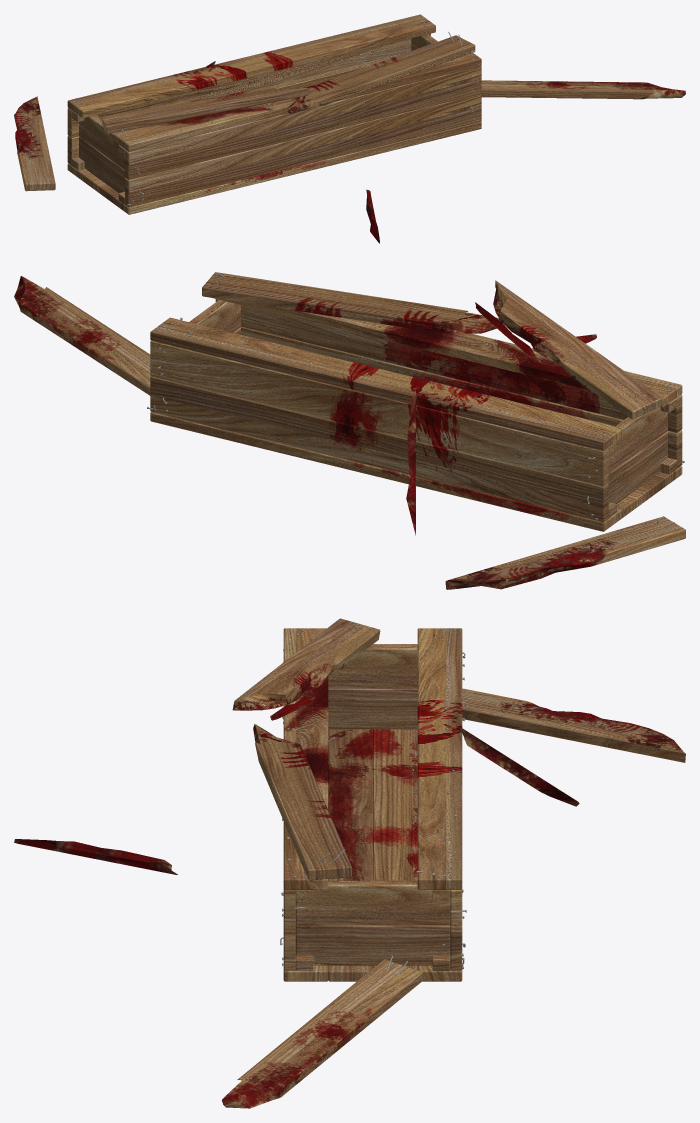
File: coffin.FBX
3 renders of one model, top to bottom at view 1: azimuth 30°, elevation 25°; view 2: azimuth 150°, elevation 25°; view 3: azimuth 270°, elevation 25°, orthographic. The views are drawn at different scales.
Visible parts, largest first — view 1: Coffin; view 2: Coffin; view 3: Coffin.
Part boxes in pixels (box(x1,y1,x2,y2)): Coffin: box(14, 14, 685, 243); Coffin: box(14, 272, 685, 589); Coffin: box(14, 618, 685, 1108).
Size of the model in its own units: 131 by 21.74 by 88.86.
